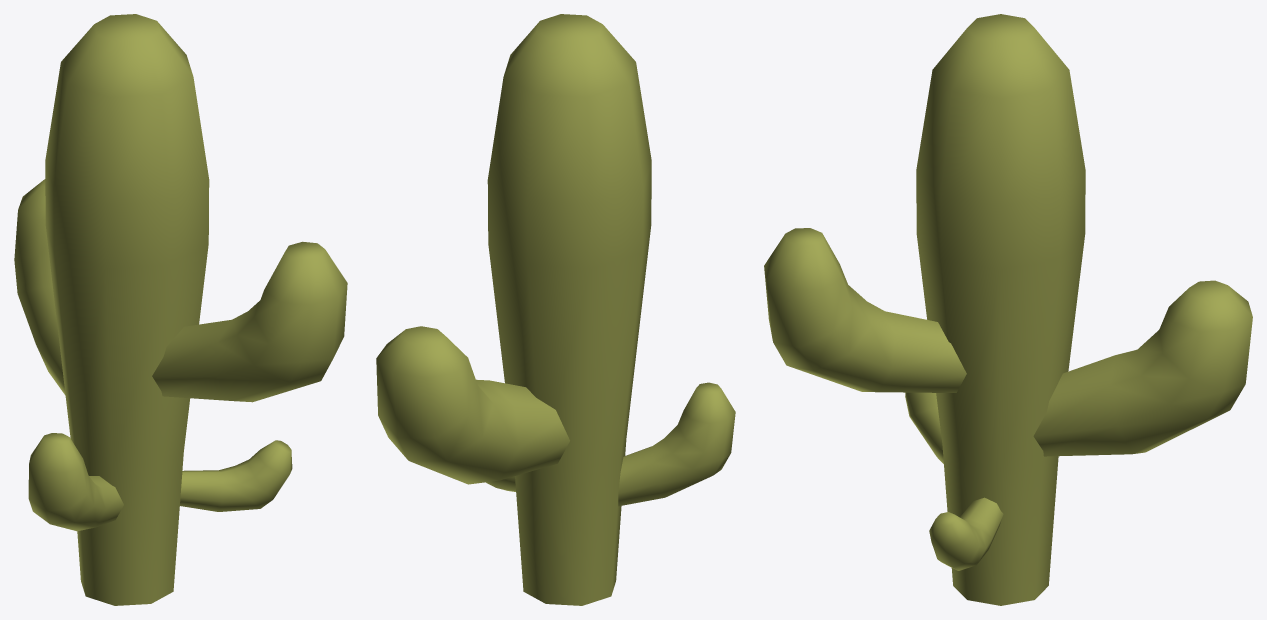
The model's file is fbx_cactus_1.fbx.
3 renders of one model, left to right at view 1: azimuth 30°, elevation 25°; view 2: azimuth 150°, elevation 25°; view 3: azimuth 270°, elevation 25°, orthographic.
Visible parts, largest first — view 1: Cylinder; view 2: Cylinder; view 3: Cylinder.
Boxes of the visible parts, x1,y1,x2,y2 form: Cylinder: (14,14,347,605); Cylinder: (376,14,735,605); Cylinder: (764,14,1252,605).
Bounding box in the file's own units: 96.63 × 194 × 154.
